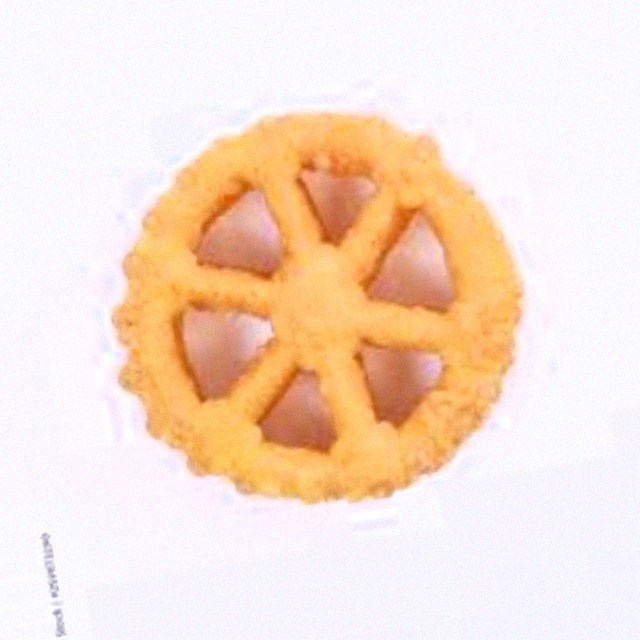Kokis: (96, 67, 544, 573)
